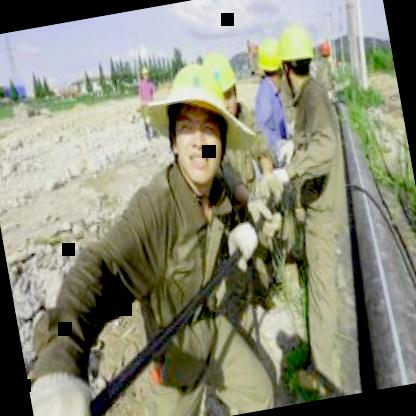helmet: (150, 53, 247, 190), (273, 18, 320, 94), (204, 47, 244, 124), (252, 35, 288, 90)
